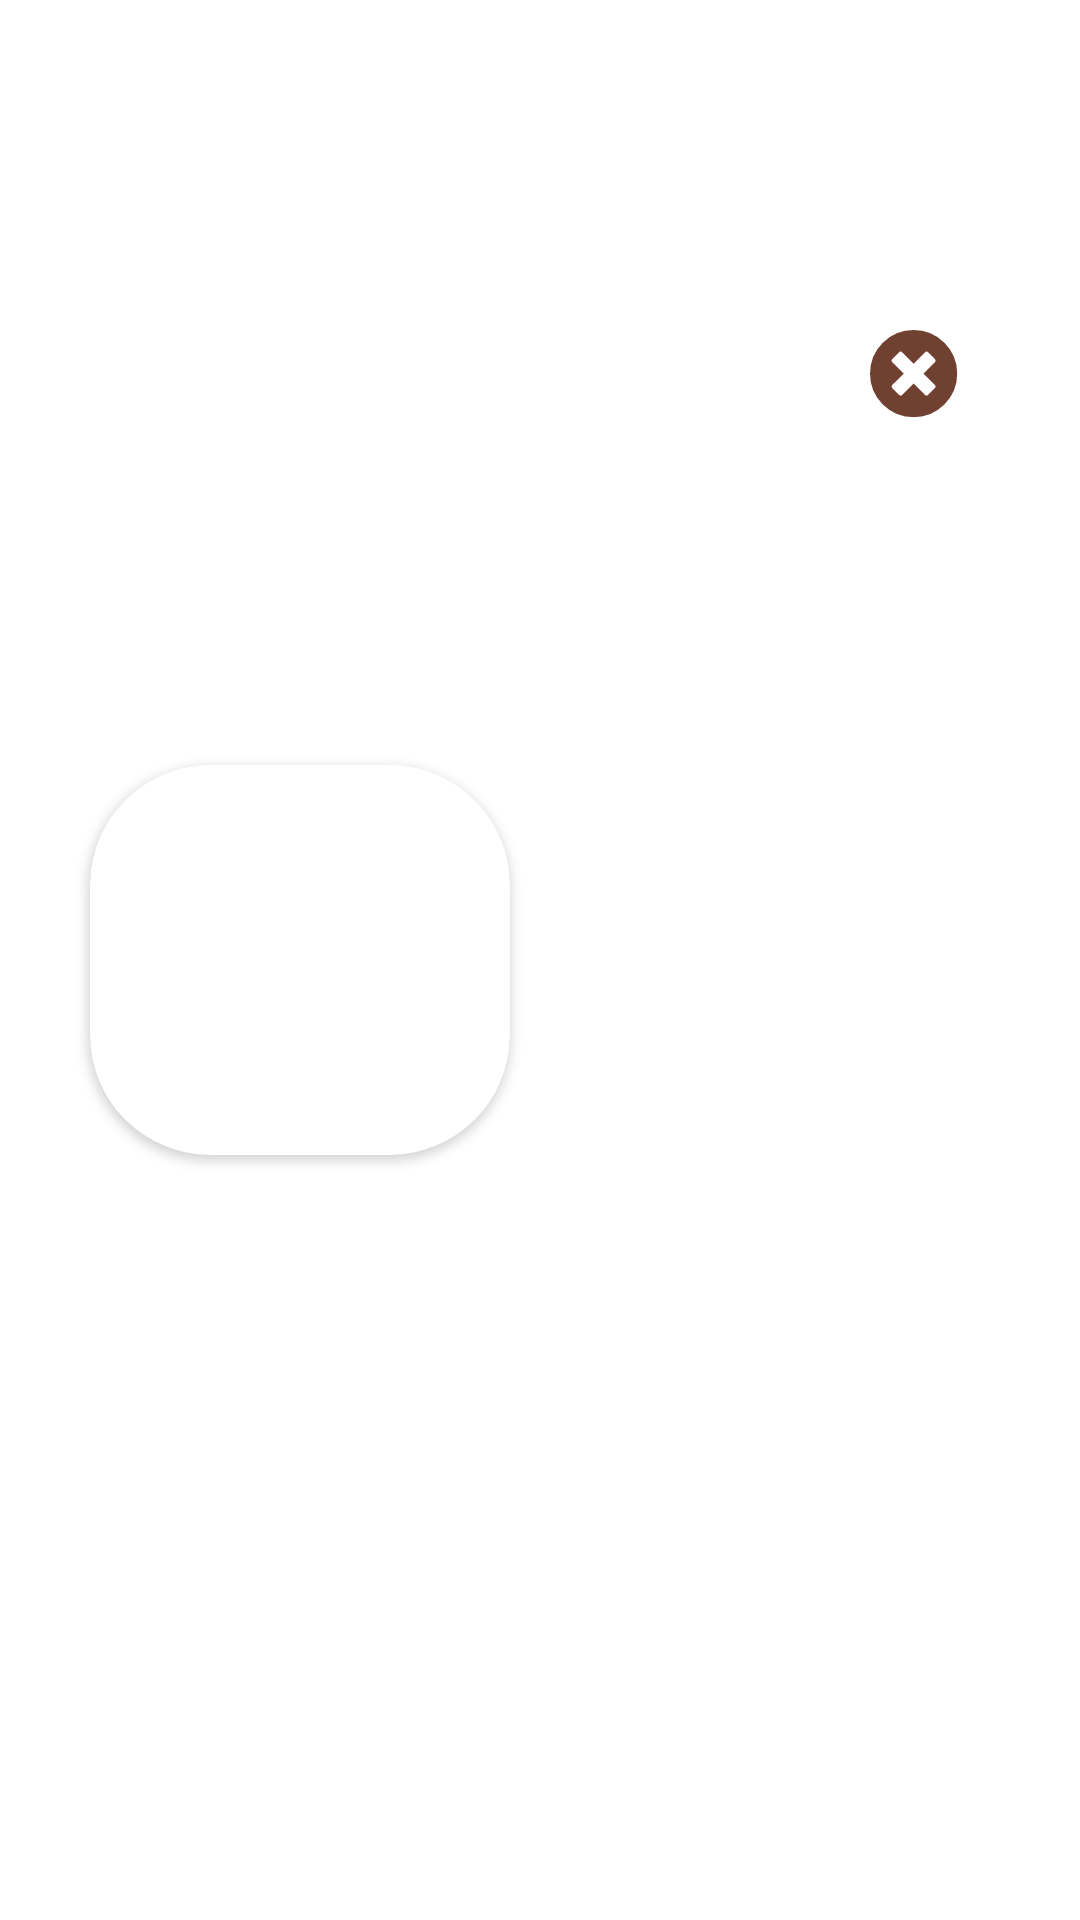

Icon click points for this 1080px×1920px phone screenshot, format point (x, y):
remove: point (914, 374)
